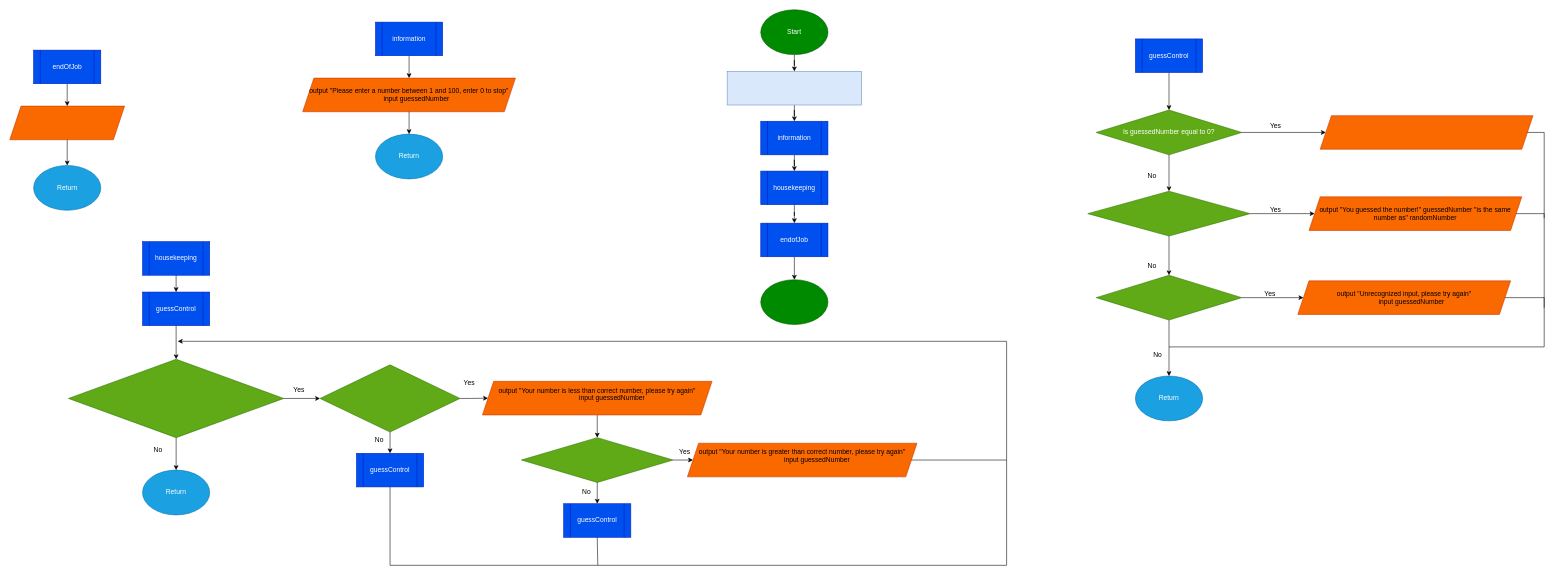
This 1555x580 diagram has some shape labels left out. The shapes that lost their labels are listed below. From the top down, each one's box as (x1, y1, x2, y2) in pixels, then its label:
(727, 71, 862, 105): Declarations: num randomNumber num guessedNumber
(9, 106, 125, 140): output "Thank you for using this program
(1320, 115, 1533, 149): output "Thank you for using this program!
(1087, 191, 1250, 236): Is guessedNumber equal to randomNumber?
(760, 279, 828, 325): Stop
(1096, 275, 1242, 320): Is guessedNumber greater than 100?
(68, 359, 284, 438): Does gussedNumber not equal random Number or does guessedNumber not equal 0?
(319, 364, 460, 432): Is guessedNumber not less than randomNumber?
(521, 437, 673, 482): if guessedNumber is not greater than randomNumber
